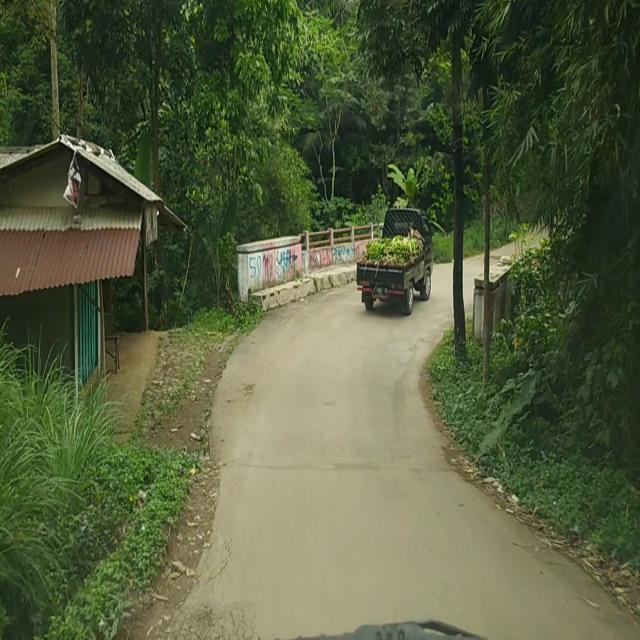Drain Hole: (186, 539, 260, 640)
